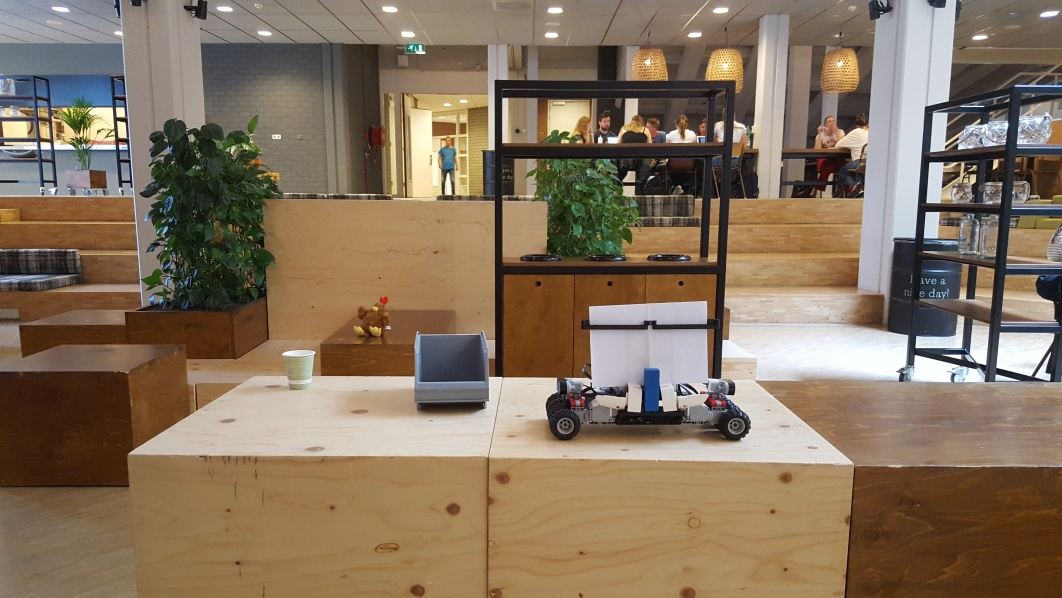beam: (642, 367, 661, 414)
chicken: (354, 296, 396, 336)
cup: (282, 348, 316, 390)
tray: (412, 326, 492, 407)
